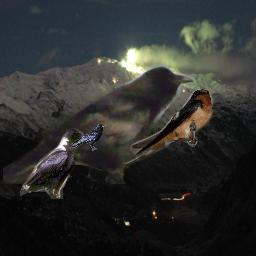Crow: (3, 64, 195, 184), (20, 126, 85, 199), (70, 123, 107, 151)
Swallow: (121, 89, 213, 164)
